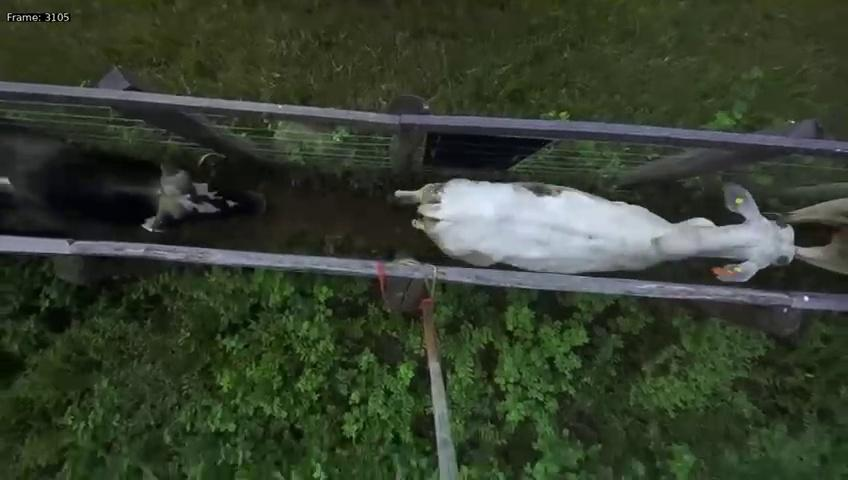cattle: (382, 167, 815, 292)
